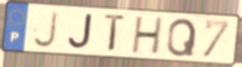7: (202, 18, 231, 60)
H: (129, 16, 165, 57)
J: (31, 10, 60, 50), (66, 13, 94, 51)
Q: (165, 17, 199, 58)
T: (102, 12, 129, 54)
